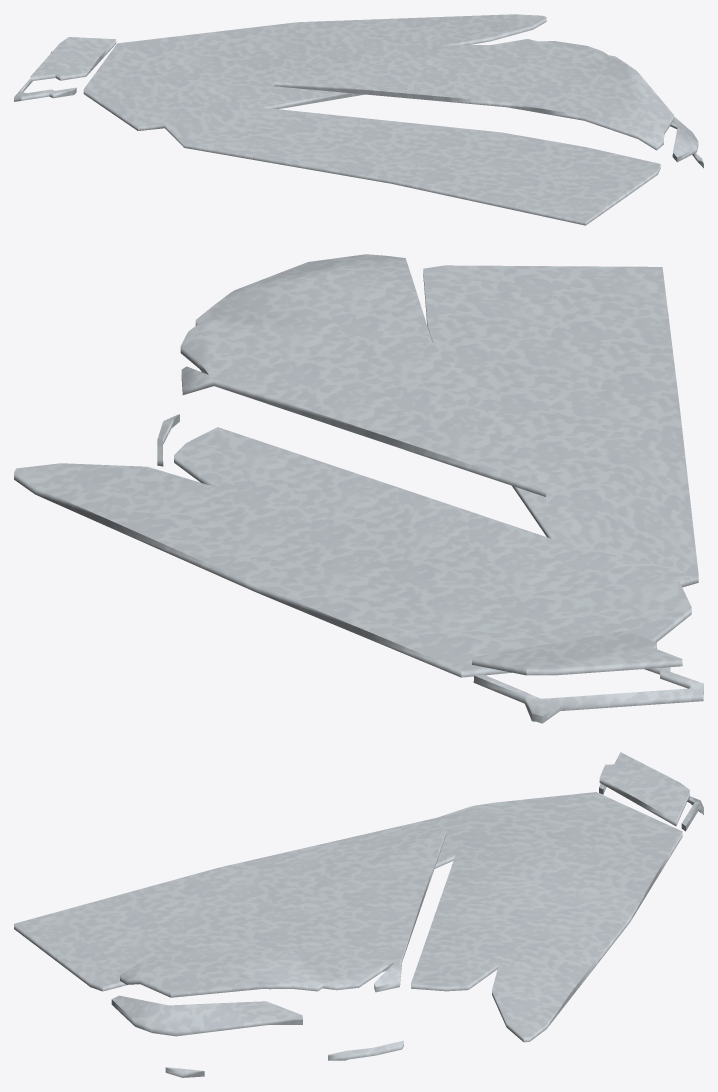
The model's file is Cliff_8_Snow.fbx.
3 renders of one model, top to bottom at view 1: azimuth 30°, elevation 25°; view 2: azimuth 150°, elevation 25°; view 3: azimuth 270°, elevation 25°, orthographic. The views are drawn at different scales.
Parts seen in each view (by area): view 1: Cliff_8_Snow; view 2: Cliff_8_Snow; view 3: Cliff_8_Snow.
Part boxes in pixels (x1,y1,x2,y2): Cliff_8_Snow: (14, 14, 703, 225); Cliff_8_Snow: (14, 254, 703, 723); Cliff_8_Snow: (14, 752, 703, 1077).
Bounding box in the file's own units: 8755 × 1212 × 9533.
